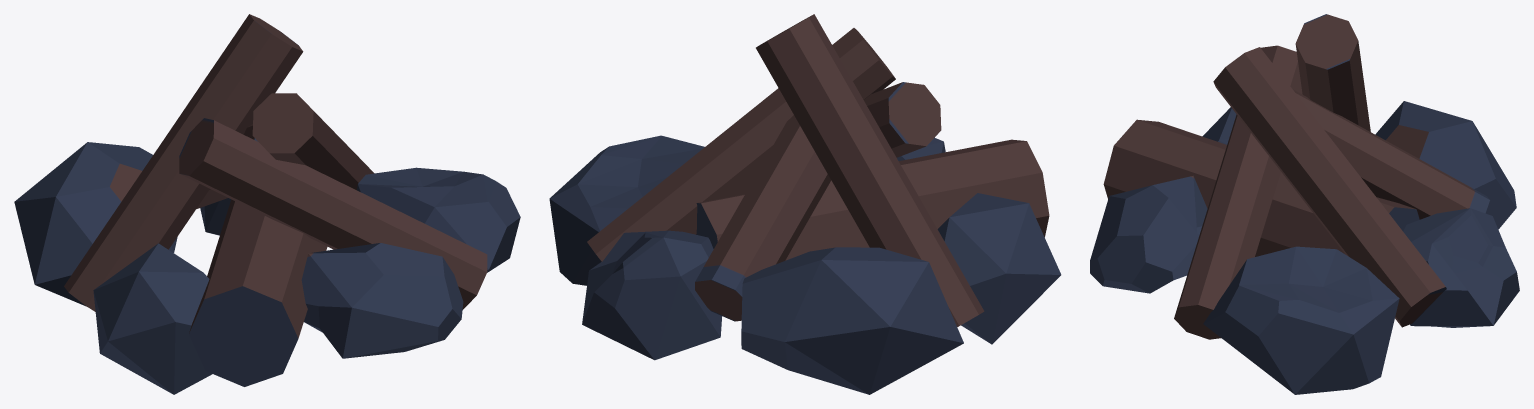
The model's file is fire.glb.
The picture shows the model from 3 angles, left to right: view 1: azimuth 30°, elevation 25°; view 2: azimuth 150°, elevation 25°; view 3: azimuth 270°, elevation 25°; orthographic projection. The views are drawn at different scales.
Visible parts, largest first — view 1: Icosphere.002; view 2: Icosphere.002; view 3: Icosphere.002.
Part boxes in pixels (left/top/right/bottom): Icosphere.002: left=14, top=14, right=520, bottom=394; Icosphere.002: left=549, top=14, right=1061, bottom=394; Icosphere.002: left=1090, top=14, right=1519, bottom=394.
Size of the model in its own units: 0.7576 by 0.4912 by 0.6834.
Materials: 1 (1 with a texture image).
